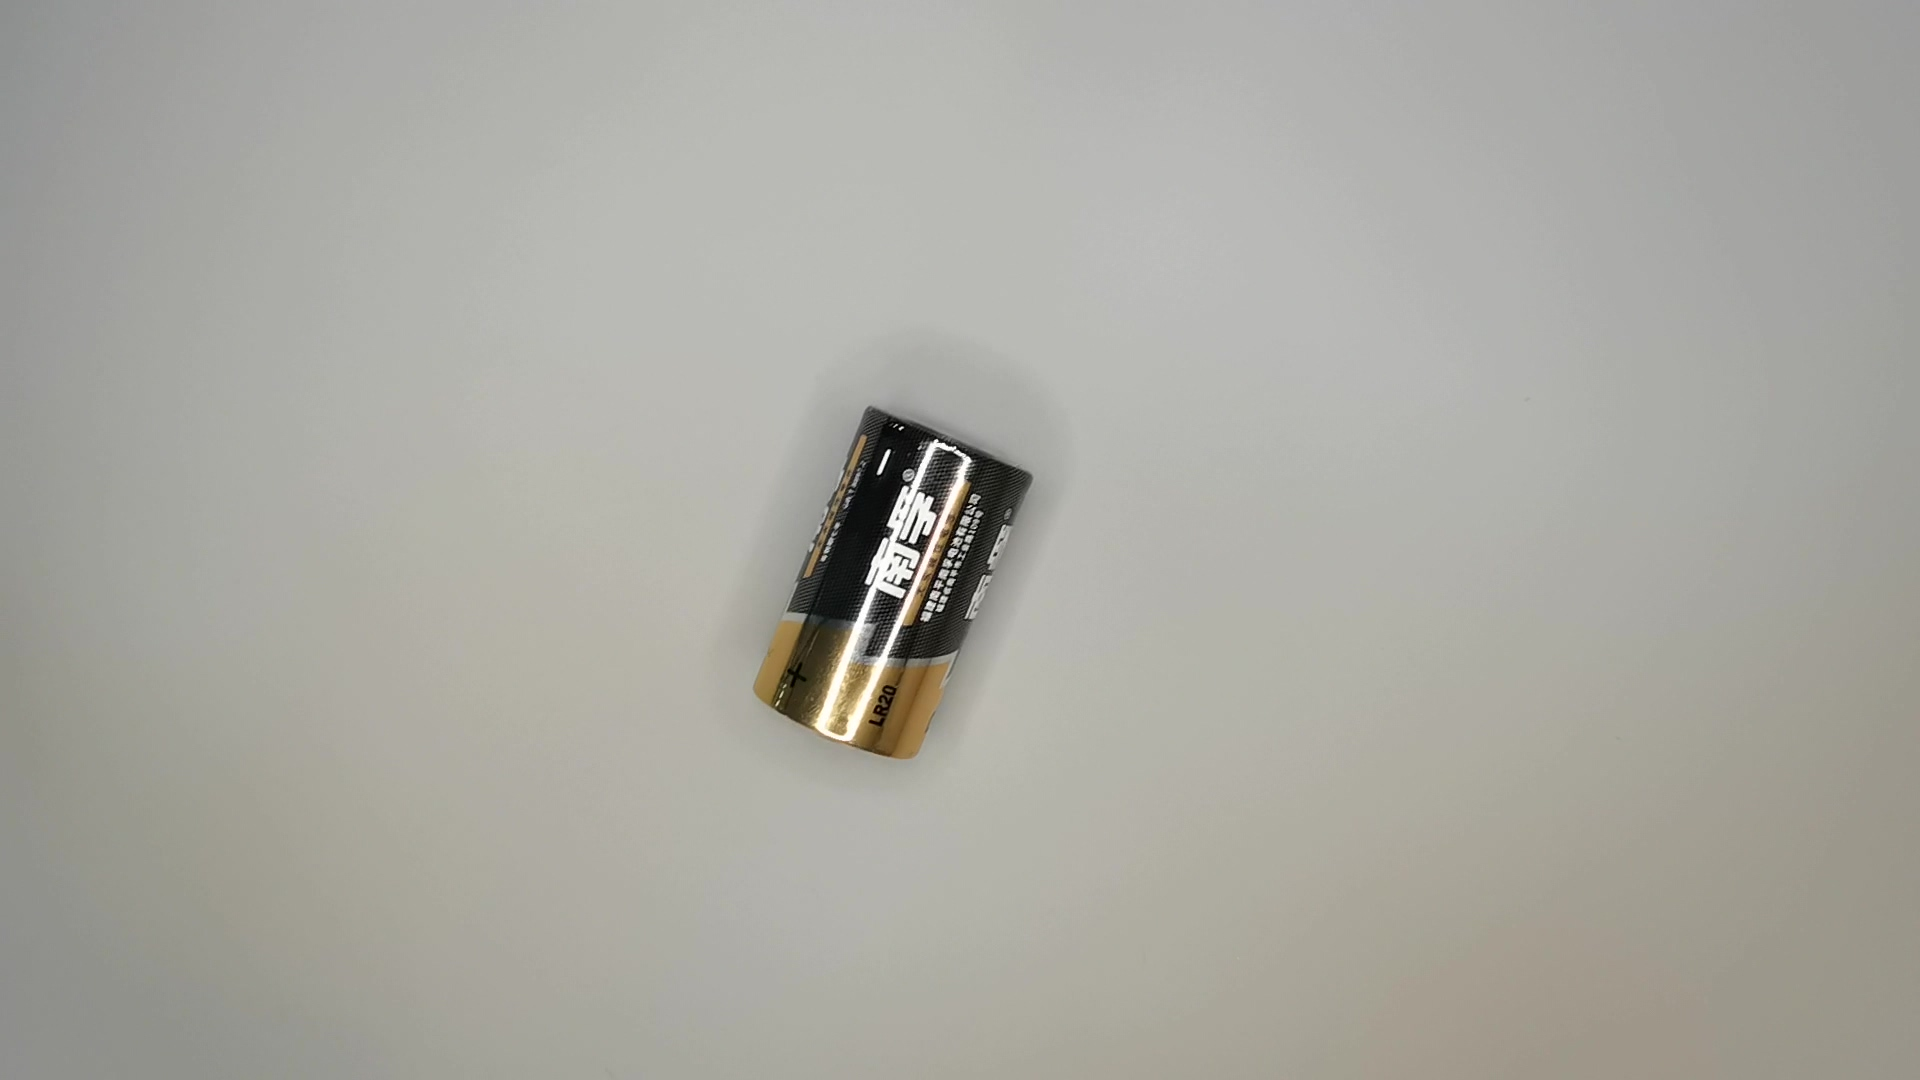battery: (756, 398, 1034, 767)
